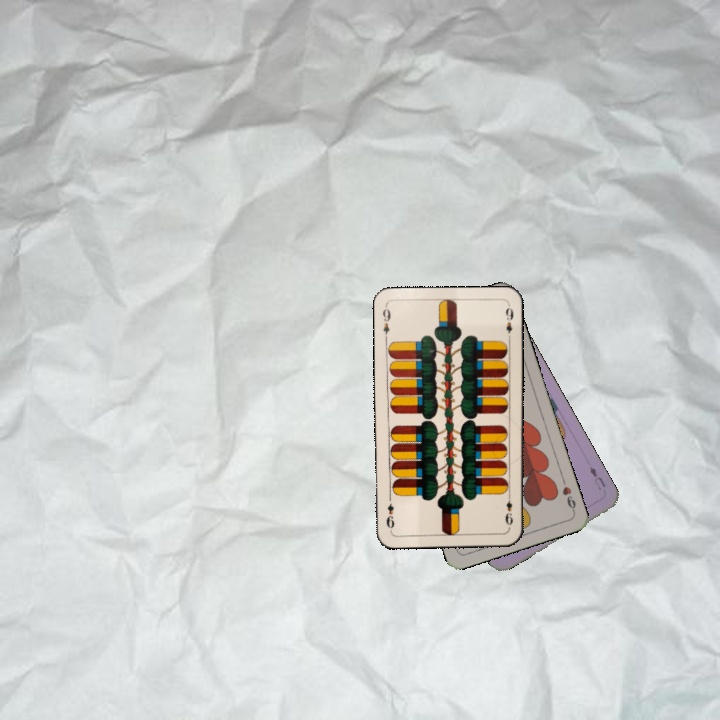E9: (378, 303, 393, 343), (501, 490, 515, 527)
EU: (586, 462, 608, 492)
H9: (558, 476, 578, 515)
